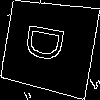D: (24, 21, 73, 65)
